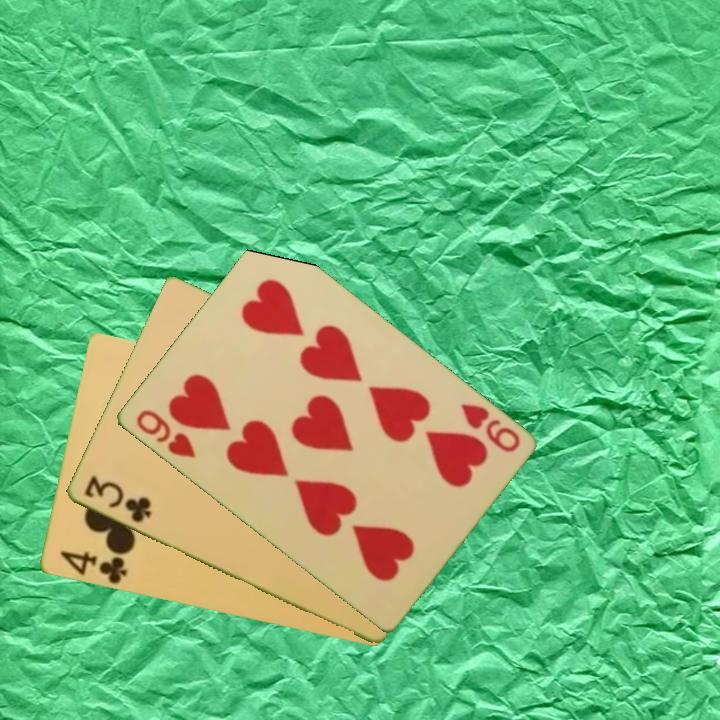3c: (80, 472, 154, 526)
4c: (56, 548, 129, 587)
9h: (456, 400, 523, 456), (132, 406, 199, 461)
